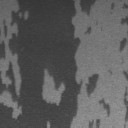red iron: (0, 0, 98, 128), (99, 98, 110, 116), (124, 86, 128, 128), (88, 119, 100, 128), (119, 37, 126, 51), (120, 16, 128, 25), (84, 26, 92, 34), (124, 70, 128, 80), (123, 3, 128, 9), (110, 2, 114, 9)
